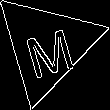M_N: (18, 15, 77, 77)
